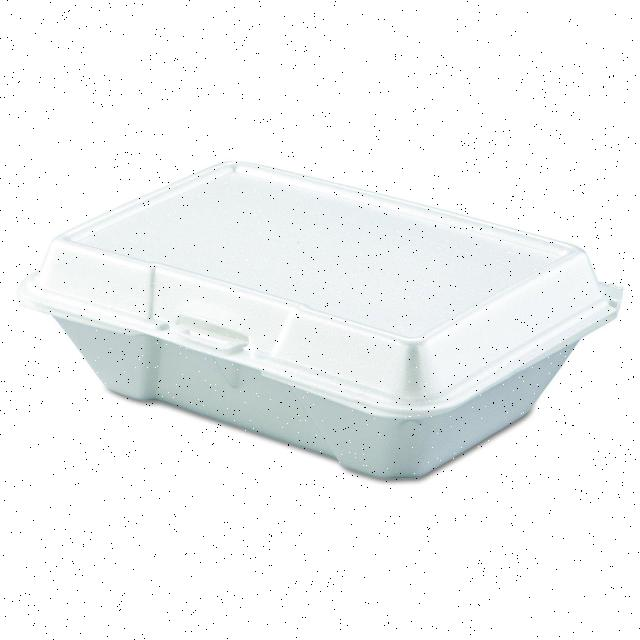styrofoam: (16, 158, 624, 482)
